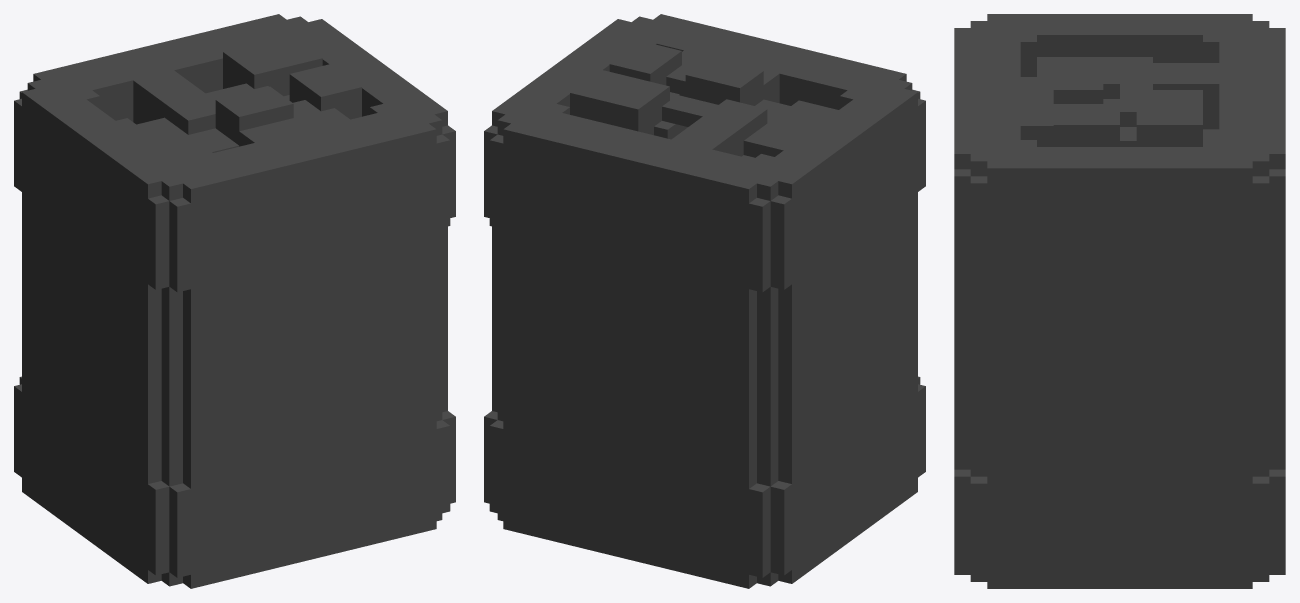
The model's file is barrel.obj.
3 views of the same model, side by side, from view 1: azimuth 30°, elevation 25°; view 2: azimuth 150°, elevation 25°; view 3: azimuth 270°, elevation 25° (orthographic). The views are drawn at different scales.
Size of the model in its own units: 2.2 by 2.9 by 2.
